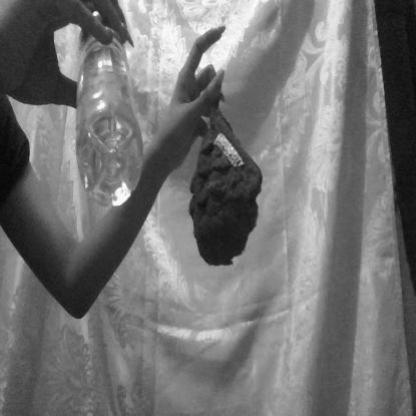Plastic Bottle: (42, 5, 171, 241)
